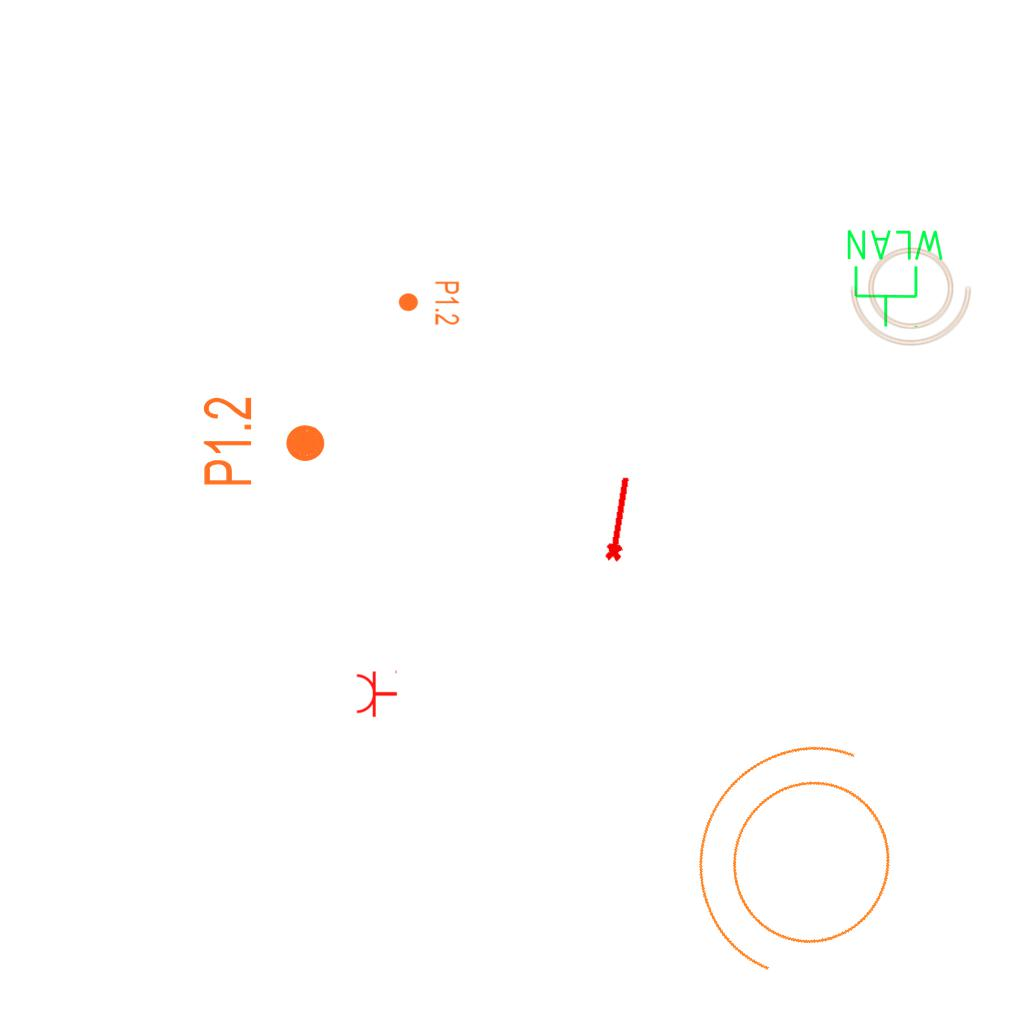ASR_Ansaugoeffnung: (599, 473, 637, 564)
Downlight_LED_Einbauleuchten_Flur: (200, 395, 328, 488), (397, 280, 461, 326)
Scheinwerfer_fuer_Alarmbeleuchtung: (646, 699, 954, 1024), (848, 237, 980, 349)
Schukosteckdose_einfach: (355, 668, 398, 718)
WLAN: (843, 226, 948, 330)
